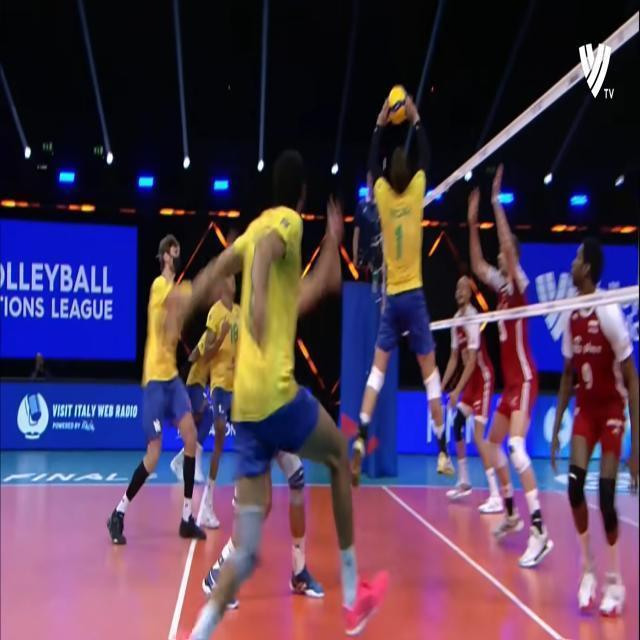volleyball: (388, 85, 408, 124)
